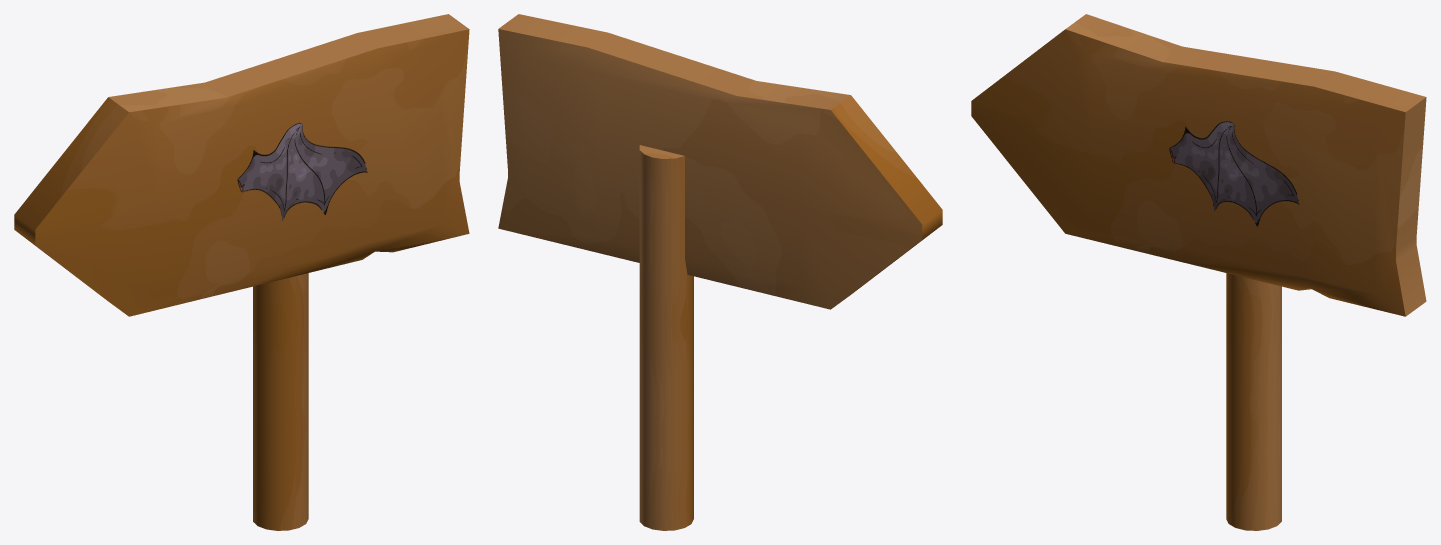
The model's file is SignYarasa.fbx.
The picture shows the model from 3 angles, left to right: view 1: azimuth 30°, elevation 25°; view 2: azimuth 150°, elevation 25°; view 3: azimuth 330°, elevation 25°; orthographic projection. The views are drawn at different scales.
Parts seen in each view (by area): view 1: SignYarasa; view 2: SignYarasa; view 3: SignYarasa.
Boxes of the visible parts, <box> form: SignYarasa: <box>14,14,469,530</box>; SignYarasa: <box>498,14,942,530</box>; SignYarasa: <box>971,14,1426,530</box>.
Bounding box in the file's own units: 191 × 195 × 26.68.
1 material, 1 textured.
